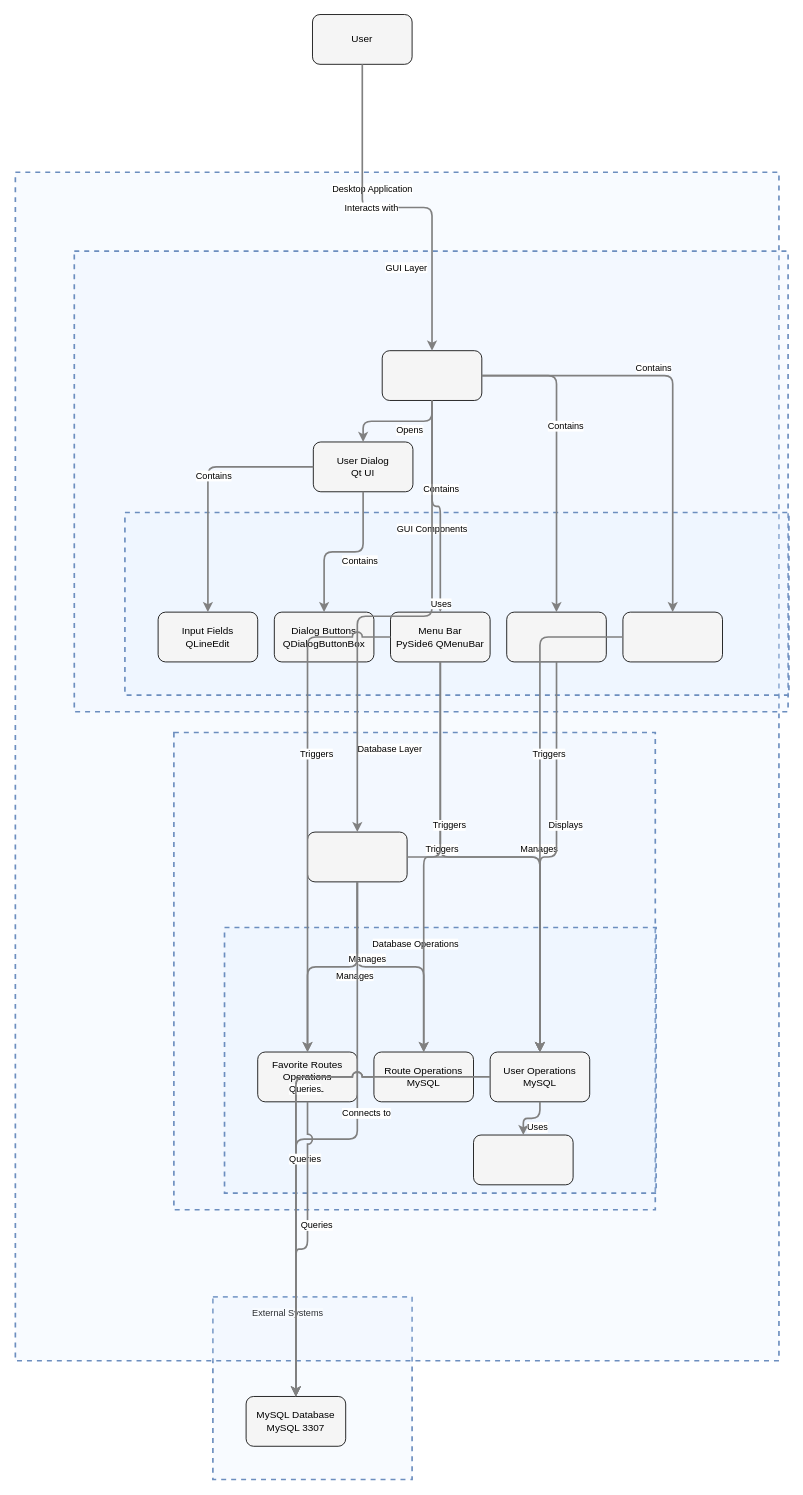
Image size: 803x1495. Some labels were removed from this diagram. Each missing label, with the centre of its shape:
Delete Button PySide6 QPushButton: pixel 672 636
Main Window PySide6 QMainWindow: pixel 431 375
MySQL Database Manager mysql.connector: pixel 357 856
Password Handler bcrypt: pixel 523 1159
User Table PySide6 QTableWidget: pixel 556 636
